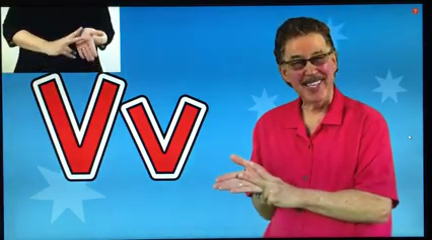V: (204, 149, 306, 214)
